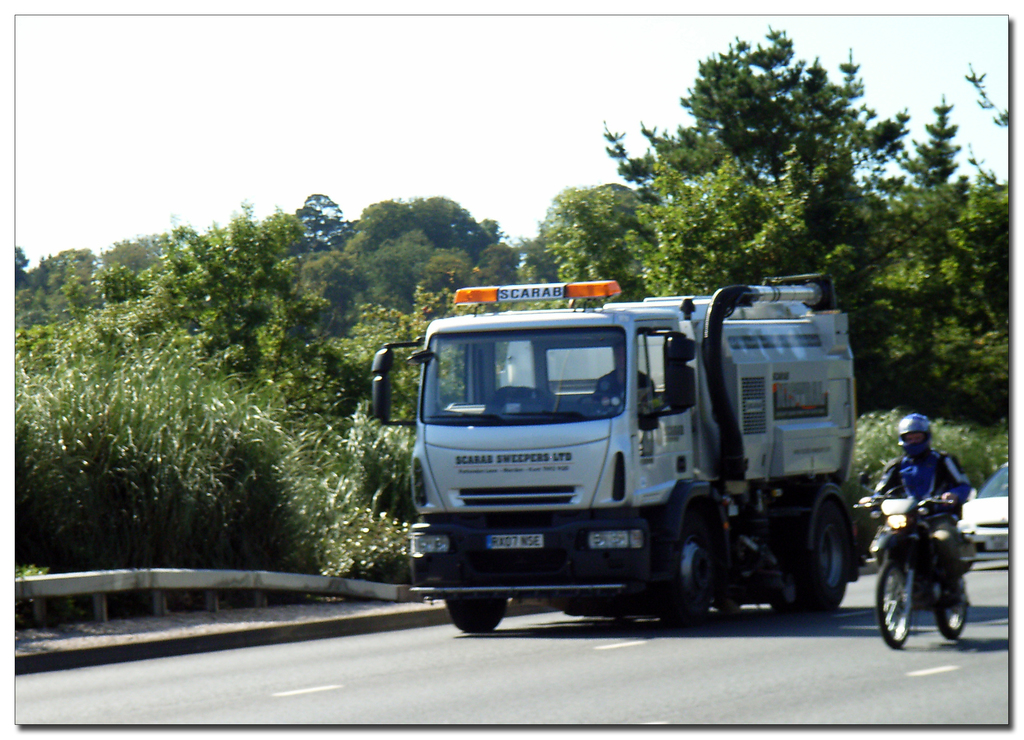truck: (349, 224, 865, 665)
